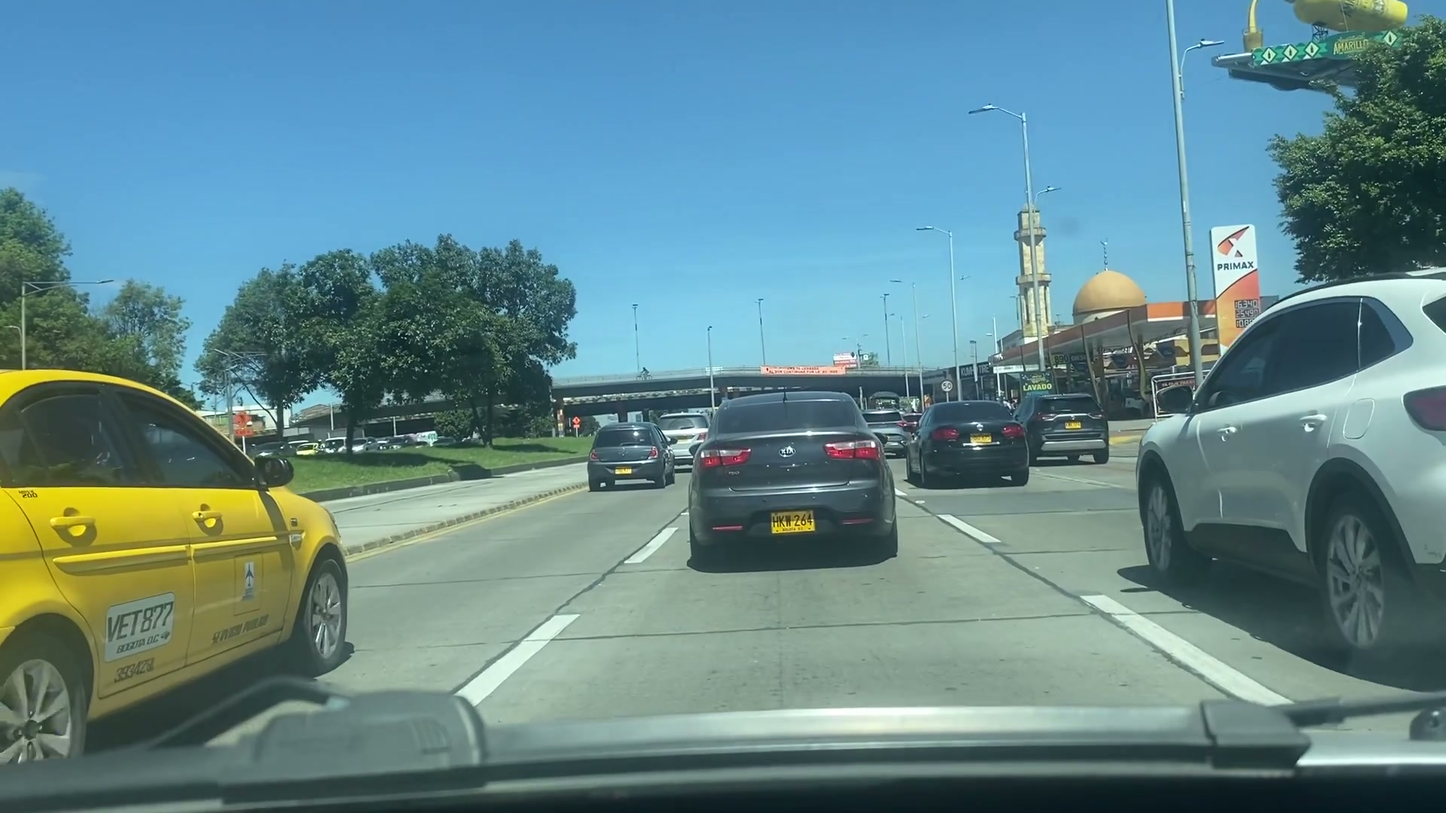car: (0, 366, 351, 762), (1137, 264, 1446, 670), (685, 394, 899, 558), (905, 403, 1034, 487), (1013, 394, 1111, 464), (585, 422, 679, 485), (655, 415, 717, 464), (859, 409, 908, 449)
